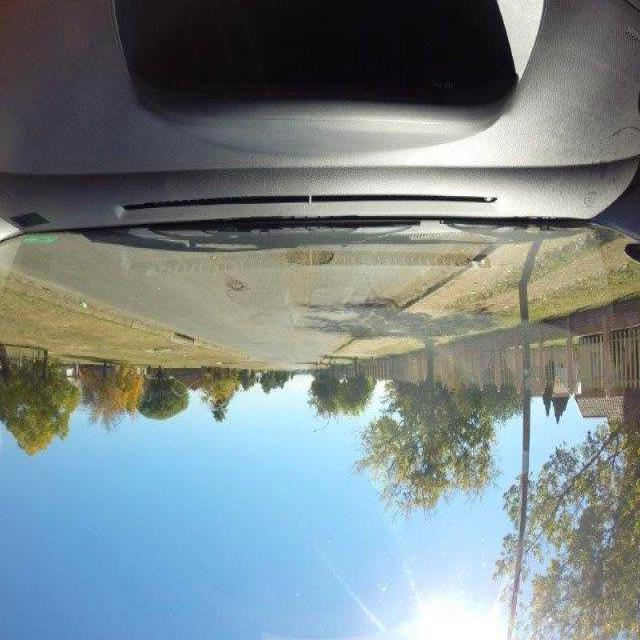lubang: (283, 244, 339, 274), (225, 279, 247, 293)
